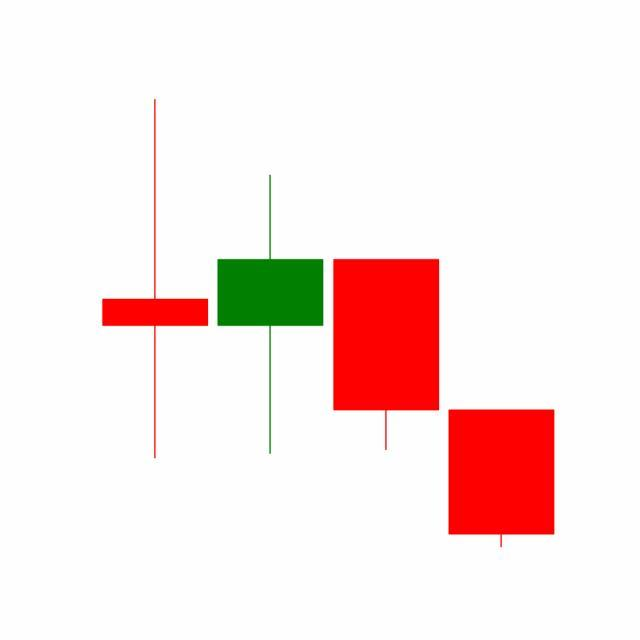Marubozu: (444, 408, 560, 550)
